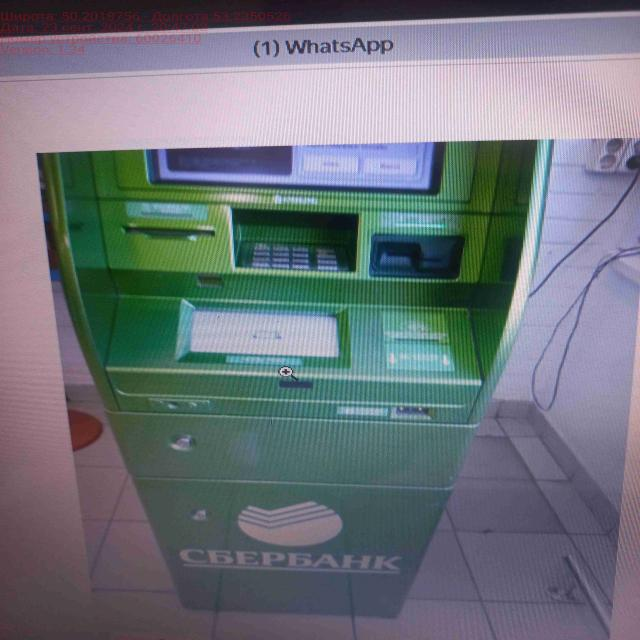bank: (42, 148, 544, 618)
